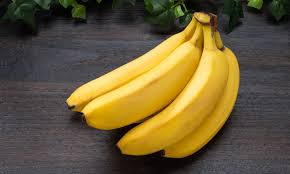banana: (66, 13, 242, 162)
